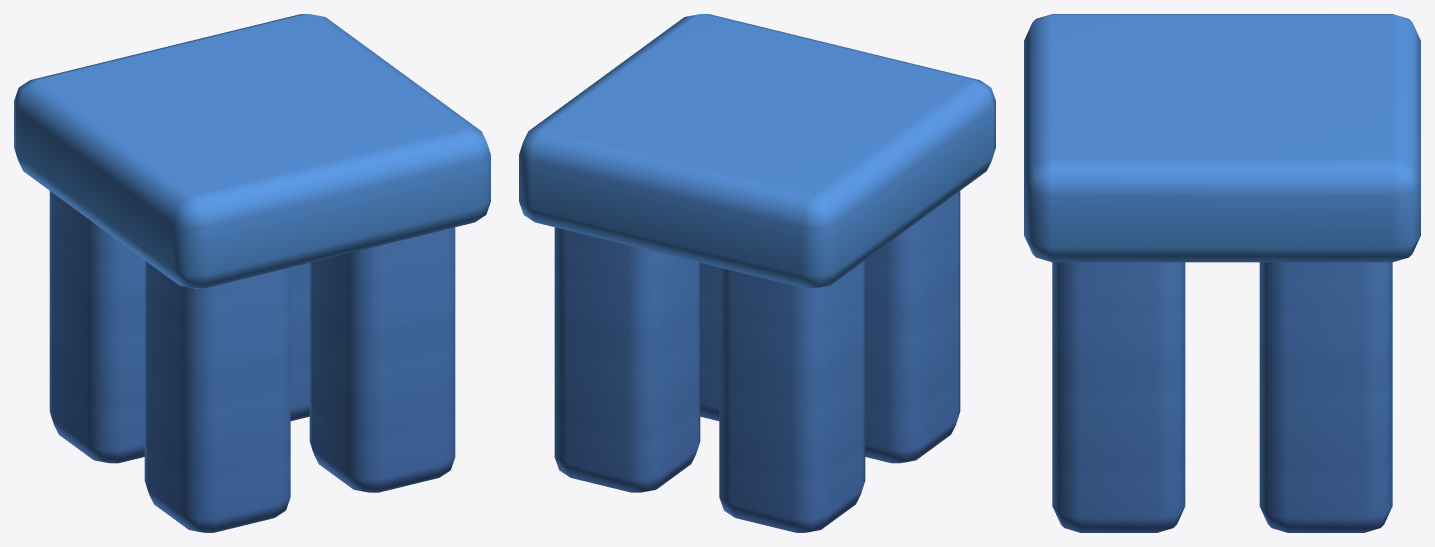
The model's file is Chair_15.glb.
3 views of the same model, side by side, from view 1: azimuth 30°, elevation 25°; view 2: azimuth 150°, elevation 25°; view 3: azimuth 270°, elevation 25° (orthographic). The views are drawn at different scales.
Visible parts, largest first — view 1: Chair_15; view 2: Chair_15; view 3: Chair_15.
Boxes of the visible parts, left/top/right/bottom form: Chair_15: left=14, top=14, right=490, bottom=532; Chair_15: left=519, top=14, right=995, bottom=532; Chair_15: left=1024, top=14, right=1420, bottom=532.
Size of the model in its own units: 0.42 by 0.45 by 0.42.
1 material, 1 textured.
